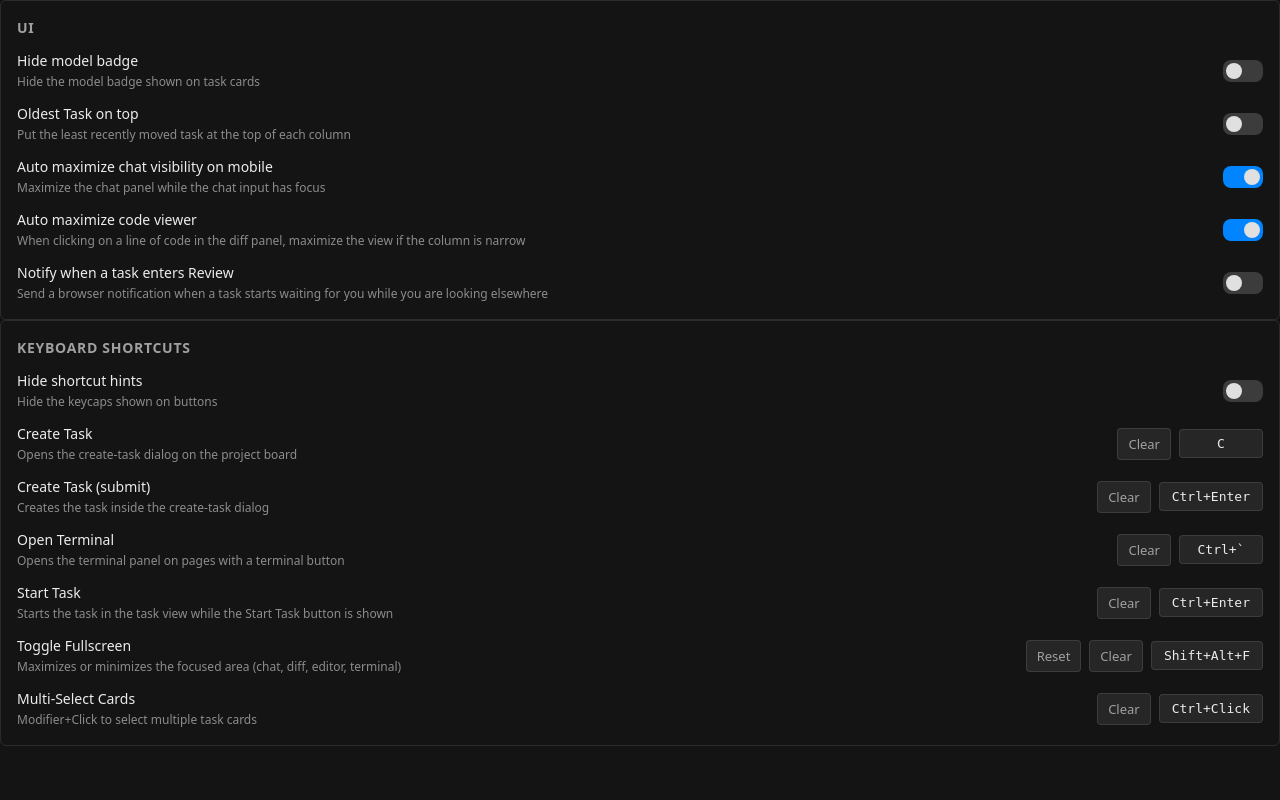
Scenario: PreferencesTab toggle-fullscreen row › resets to the default binding
Click the button with aria-label "Reset to default". click: (1054, 656)
box: [1026,640,1081,672]
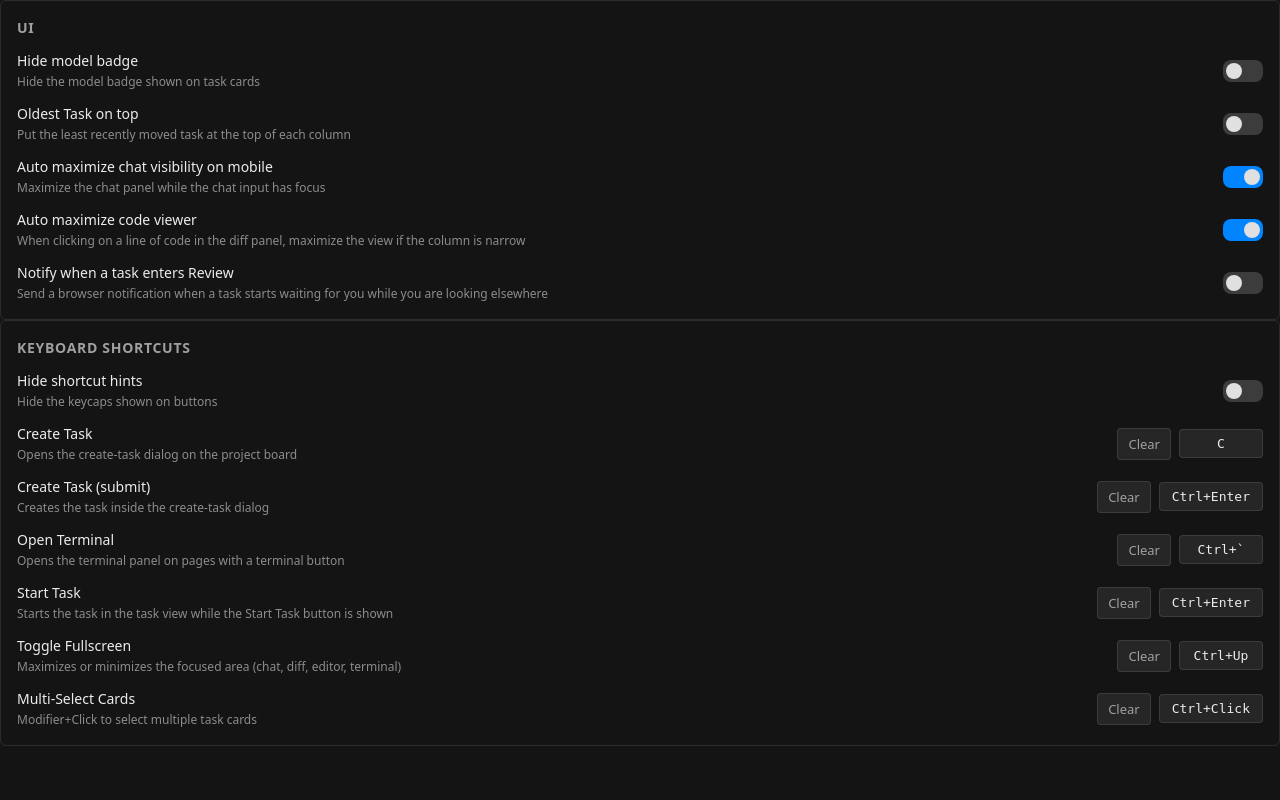
Check: the button with aria-label "toggle fullscreen shortcut" reads "Ctrl+Up", box [1179,641,1263,670]
